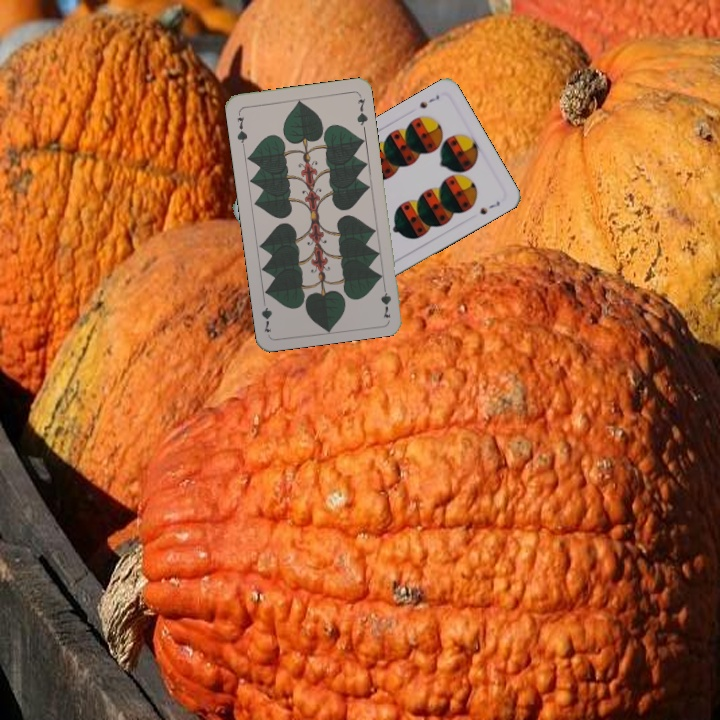G7: (233, 108, 250, 149), (377, 279, 394, 320)
S7: (416, 90, 442, 111)
